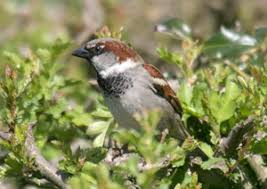hsparrow: (71, 35, 200, 172)
